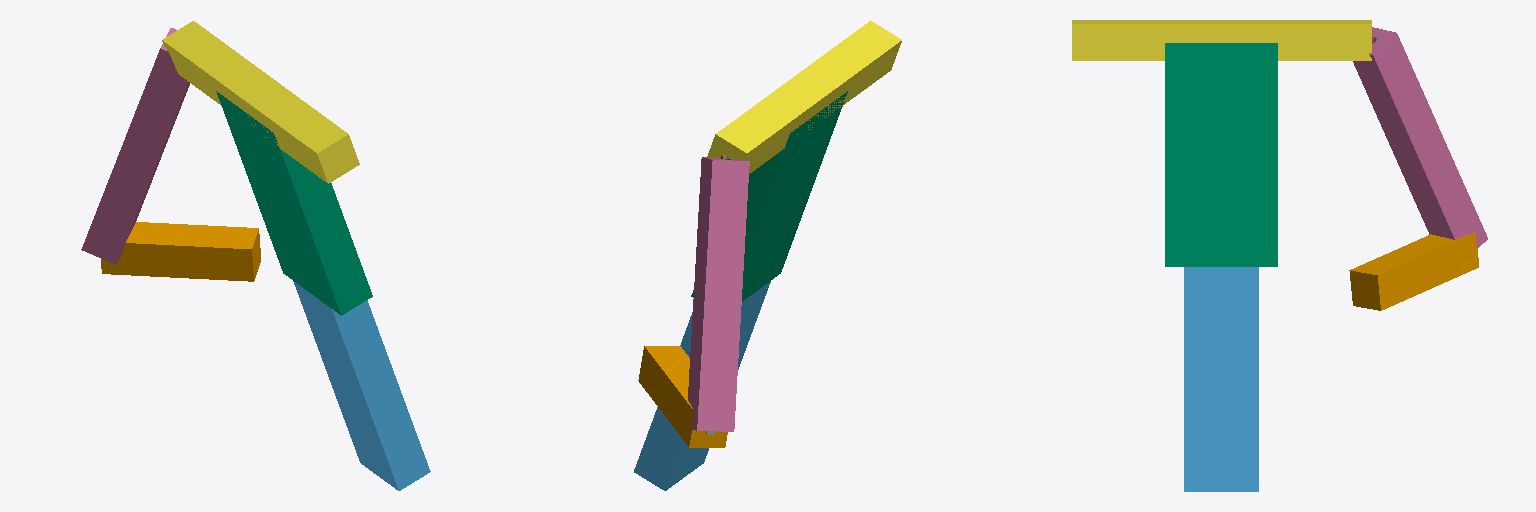
robot.urdf — myboat:
<?xml version="1.0" encoding="utf-8"?>
<!-- =================================================================================== -->
<!-- |    This document was autogenerated by xacro from crash_boot.xacro               | -->
<!-- |    EDITING THIS FILE BY HAND IS NOT RECOMMENDED                                 | -->
<!-- =================================================================================== -->
<robot name="myboat" xmlns:xacro="http://www.ros.org/wiki/xacro">
  <link name="world"/>
  <joint name="hip2" type="revolute">
    <parent link="world"/>
    <child link="back_low"/>
    <origin rpy="0  -1.91079632679 0.0" xyz="0.0 0.0   0.1"/>
    <dynamics damping="0.5" friction="0.1"/>
    <axis xyz="0 1 0"/>
    <limit effort="100.0" lower="-1.0" upper="1.0" velocity="1.0"/>
  </joint>
  <link name="back_low">
    <inertial>
      <mass value="10.0"/>
      <origin rpy="0 0 0" xyz="0.15 0.0 0.0"/>
      <inertia ixx="0.01" ixy="0" ixz="0" iyy="0.077" iyz="0" izz="0.083"/>
    </inertial>
    <visual>
      <origin rpy="0 0 0" xyz="0.15 0.0   0.0"/>
      <geometry>
        <box size="0.3 0.1 0.05"/>
      </geometry>
    </visual>
  </link>
  <joint name="back_lh" type="fixed">
    <parent link="back_low"/>
    <child link="back_high"/>
    <origin rpy="0  0.0 0.0" xyz="0.3 0.0   0.0"/>
  </joint>
  <link name="back_high">
    <inertial>
      <mass value="10.0"/>
      <origin rpy="0 0 0" xyz="0.15 0.0 0.0"/>
      <inertia ixx="0.02" ixy="0" ixz="0" iyy="0.077" iyz="0" izz="0.094"/>
    </inertial>
    <visual>
      <origin rpy="0 0 0" xyz="0.15 0.0   0.0"/>
      <geometry>
        <box size="0.3 0.15 0.05"/>
      </geometry>
    </visual>
  </link>
  <joint name="shoulder" type="fixed">
    <parent link="back_high"/>
    <child link="shoulder_link"/>
    <origin rpy="0  0.0 0.0" xyz="0.3 0.0   0.0"/>
  </joint>
  <link name="shoulder_link">
    <inertial>
      <mass value="1.0"/>
      <origin rpy="0 0 0" xyz="0.0 0.0 0.0"/>
      <inertia ixx="0.013" ixy="0" ixz="0" iyy="0.0004" iyz="0" izz="0.013"/>
    </inertial>
    <visual>
      <origin rpy="0 0 0" xyz="0.0 0.0   0.0"/>
      <geometry>
        <box size="0.05 0.4 0.05"/>
      </geometry>
    </visual>
  </link>
  <!-- 3D joint left shoulder -->
  <joint name="shoulder_l" type="revolute">
    <parent link="shoulder_link"/>
    <child link="left_shoulder_xx_link"/>
    <origin rpy="0.0 0.0 0.13" xyz="0.0 0.2   0.0"/>
    <axis xyz="0 0 1"/>
    <dynamics damping="0.5" friction="0.1"/>
    <limit effort="100.0" lower="-0.5" upper="0.5" velocity="1.0"/>
  </joint>
  <link name="left_shoulder_xx_link">
    <inertial>
      <mass value="0.1"/>
      <origin rpy="0 0 0" xyz="0 0.0 0.0"/>
      <inertia ixx="0.00000167" ixy="0" ixz="0" iyy="0.00000167" iyz="0" izz="0.00000167"/>
    </inertial>
    <visual>
      <origin rpy="0 0 0" xyz="0.0 0.0 0.0"/>
      <geometry>
        <box size="0.01 0.01 0.01"/>
      </geometry>
    </visual>
  </link>
  <joint name="shoulder_iets" type="fixed">
    <parent link="left_shoulder_xx_link"/>
    <child link="left_shoulder_psi_link"/>
    <origin rpy="-0.803 0.0 0.0" xyz="0.0 0.0   0.0"/>
  </joint>
  <link name="left_shoulder_psi_link">
    <inertial>
      <mass value="0.01"/>
      <origin rpy="0 0 0" xyz="0 0.0 0.0"/>
      <inertia ixx="0.000000167" ixy="0" ixz="0" iyy="0.000000167" iyz="0" izz="0.000000167"/>
    </inertial>
    <visual>
      <origin rpy="0 0 0" xyz="0.0 0.0 0.0"/>
      <geometry>
        <box size="0.01 0.01 0.01"/>
      </geometry>
    </visual>
  </link>
  <joint name="LShoulderTheta" type="revolute">
    <parent link="left_shoulder_psi_link"/>
    <child link="arm_l_upper"/>
    <origin rpy="0 0.68 0" xyz="0 0.0 0.0"/>
    <axis xyz="0 1 0"/>
    <dynamics damping="0.5" friction="0.1"/>
    <limit effort="100.0" lower="-0.5" upper="0.5" velocity="1.0"/>
  </joint>
  <link name="arm_l_upper">
    <inertial>
      <mass value="1.0"/>
      <origin rpy="0 0 0" xyz="-0.175 0.0 0.0"/>
      <inertia ixx="0.004" ixy="0" ixz="0" iyy="0.01" iyz="0" izz="0.01"/>
    </inertial>
    <visual>
      <origin rpy="0 0 0" xyz="-0.175 0.0   0.0"/>
      <geometry>
        <box size="0.35 0.05 0.05"/>
      </geometry>
    </visual>
  </link>
  <!-- 2D joint left elbow -->
  <joint name="LElbowTheta" type="fixed">
    <parent link="arm_l_upper"/>
    <child link="left_elbow_psi_link"/>
    <origin rpy="0.0 -1.94  0.0" xyz="-0.35 0.0  0.0"/>
  </joint>
  <link name="left_elbow_psi_link">
    <inertial>
      <mass value="0.01"/>
      <origin rpy="0 0 0" xyz="0 0.0 0.0"/>
      <inertia ixx="0.000000167" ixy="0" ixz="0" iyy="0.000000167" iyz="0" izz="0.000000167"/>
    </inertial>
    <visual>
      <origin rpy="0 0 0" xyz="0.0 0.0 0.0"/>
      <geometry>
        <box size="0.01 0.01 0.01"/>
      </geometry>
    </visual>
  </link>
  <joint name="elbow_left" type="fixed">
    <parent link="left_elbow_psi_link"/>
    <child link="arm_l_lower_1"/>
    <origin rpy="0 0 -0.09" xyz="0 0.0 0.0"/>
  </joint>
  <!-- lower arm in two to create a kinematic loop in gazebo -->
  <link name="arm_l_lower_1">
    <inertial>
      <mass value="1.0"/>
      <origin rpy="0 0 0" xyz="-0.1 0.0 0.0"/>
      <inertia ixx="0.0004" ixy="0" ixz="0" iyy="0.0035" iyz="0" izz="0.0035"/>
    </inertial>
    <visual>
      <origin rpy="0 0 0" xyz="-0.1 0.0   0.0"/>
      <geometry>
        <box size="0.20 0.05 0.05"/>
      </geometry>
    </visual>
  </link>
</robot>

--- Facts derived from the render (not from the file) ---
Views: 3 orthographic renders of the robot side by side, from view 1: azimuth 30°, elevation 25°; view 2: azimuth 150°, elevation 25°; view 3: azimuth 270°, elevation 25°.
Model myboat with 9 links and 8 joints (3 revolute, 5 fixed), rooted at world, posed all joints at 0.
Links seen in each view (by area): view 1: back_high, back_low, shoulder_link, arm_l_upper, arm_l_lower_1; view 2: arm_l_upper, shoulder_link, back_high, back_low, arm_l_lower_1; view 3: back_high, back_low, arm_l_upper, shoulder_link, arm_l_lower_1.
Boxes of the visible links, x1,y1,x2,y2 form: back_high: (216,91,372,315); back_low: (293,281,430,490); shoulder_link: (162,21,359,183); arm_l_upper: (81,28,189,264); arm_l_lower_1: (101,222,260,281); arm_l_upper: (688,157,749,431); shoulder_link: (707,21,901,173); back_high: (691,91,847,301); back_low: (634,281,770,490); arm_l_lower_1: (638,346,727,447); back_high: (1165,43,1277,266); back_low: (1184,267,1258,491); arm_l_upper: (1353,27,1487,248); shoulder_link: (1072,20,1371,60); arm_l_lower_1: (1349,232,1478,310).
Bounding box of the posed robot: 0.306 × 0.5548 × 0.6059 m (x, y, z).
Geometry: primitives only (box / cylinder / sphere), no mesh files.